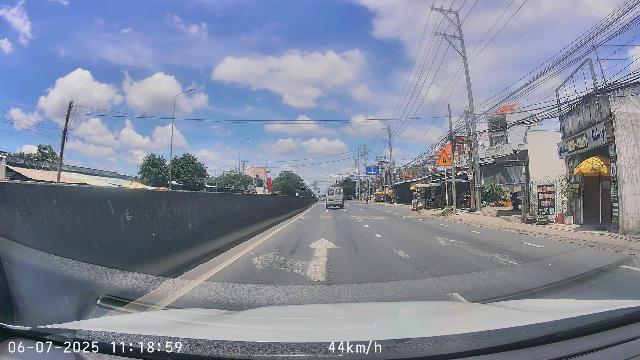209-giao-nhau-co-tin-hieu-den: (436, 150, 452, 166)
